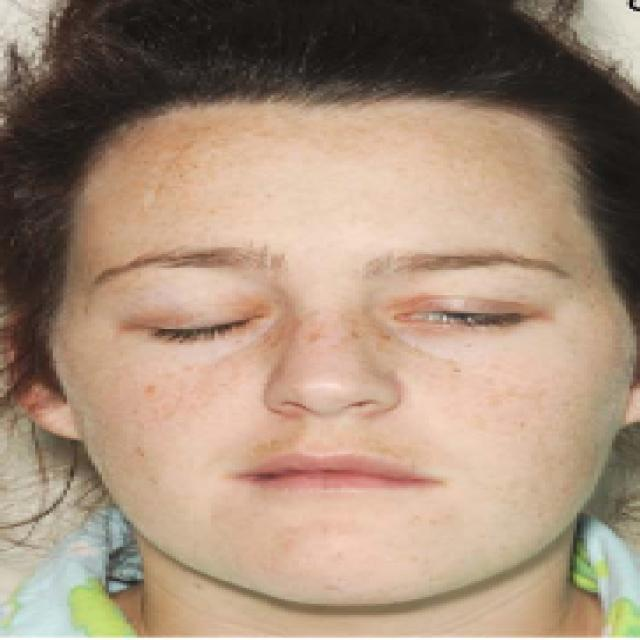stroke_face: (0, 45, 640, 604)
